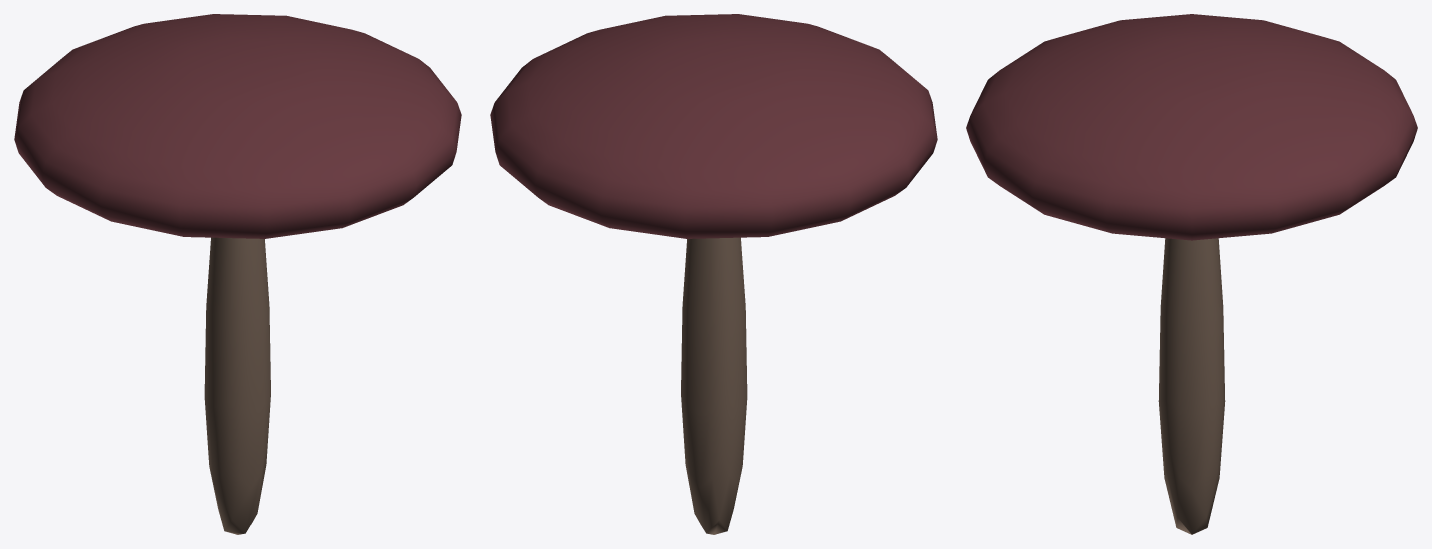
File: LongMushroom.fbx
The picture shows the model from 3 angles, left to right: view 1: azimuth 30°, elevation 25°; view 2: azimuth 150°, elevation 25°; view 3: azimuth 270°, elevation 25°; orthographic projection.
Visible parts, largest first — view 1: LongMushroom; view 2: LongMushroom; view 3: LongMushroom.
Boxes of the visible parts, left/top/right/bottom form: LongMushroom: left=14, top=14, right=461, bottom=534; LongMushroom: left=490, top=14, right=937, bottom=534; LongMushroom: left=966, top=14, right=1417, bottom=534.
Bounding box in the file's own units: 6.29 × 7.3 × 6.29.
